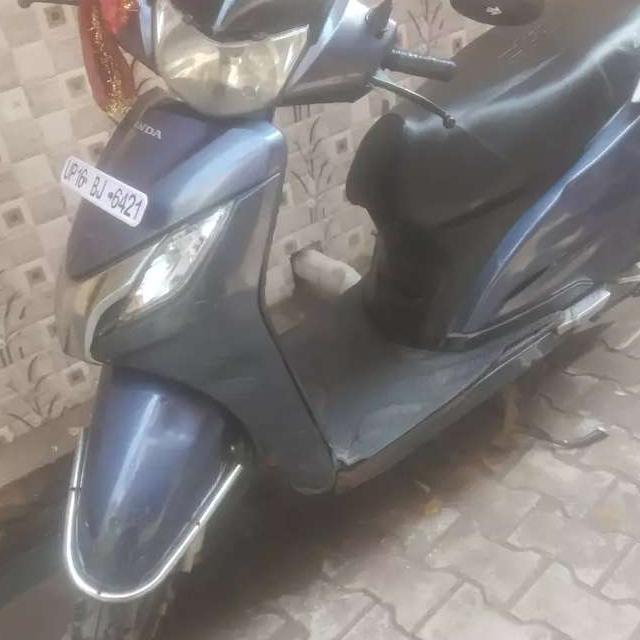Indian_Number_Plate: (60, 157, 148, 226)
